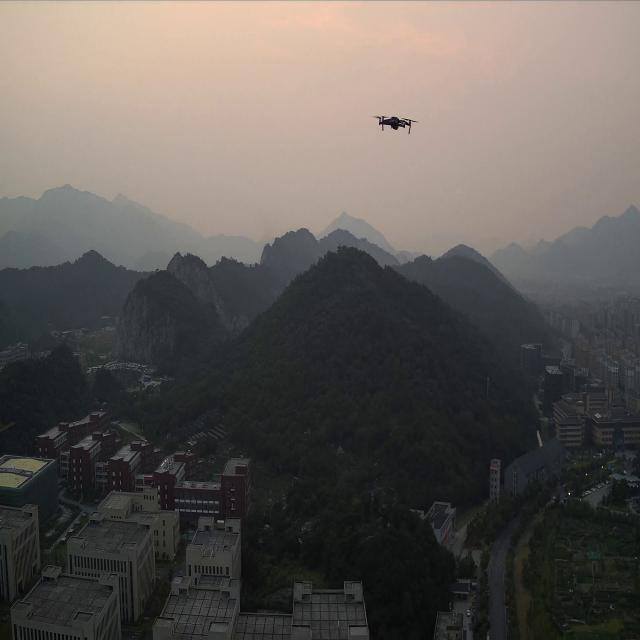UAV: (372, 111, 418, 136)
